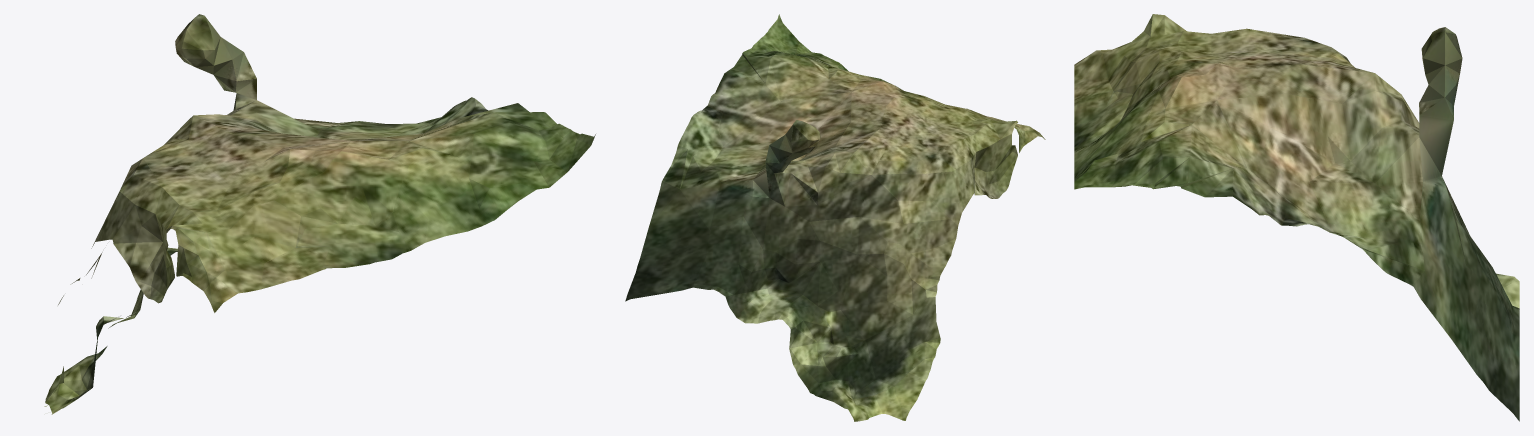
3 renders of one model, left to right at view 1: azimuth 30°, elevation 25°; view 2: azimuth 150°, elevation 25°; view 3: azimuth 270°, elevation 25°, orthographic. The views are drawn at different scales.
Size of the model in its own units: 5.9 by 5.56 by 5.9.
Materials: 4 (4 with a texture image).
